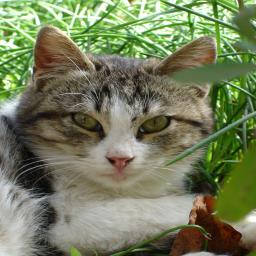catnose: (104, 149, 137, 172)
